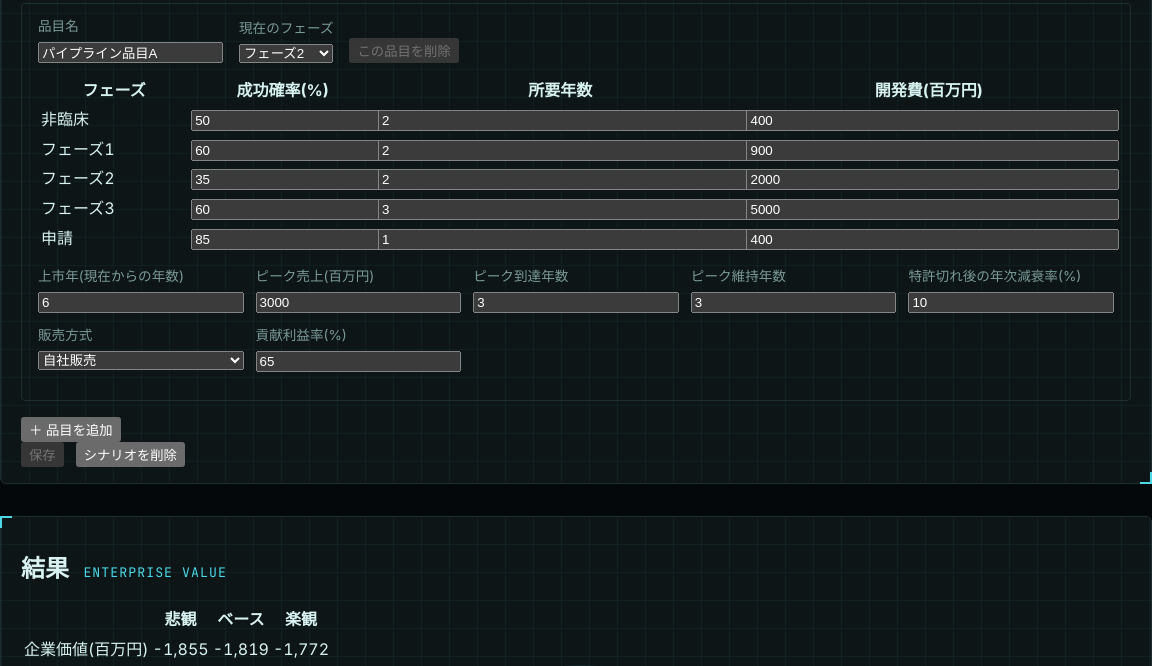
DrugDiscoveryScenarioView › 導出(ライセンス)型に切り替えるとロイヤリティ率とマイルストーンの入力が表示される
The width and height of the screenshot is (1152, 666).
(page scrolled)
Select "導出(ロイヤリティ)" in the dropdown labelled "販売方式" at point(141, 360), box [38,351,244,370]
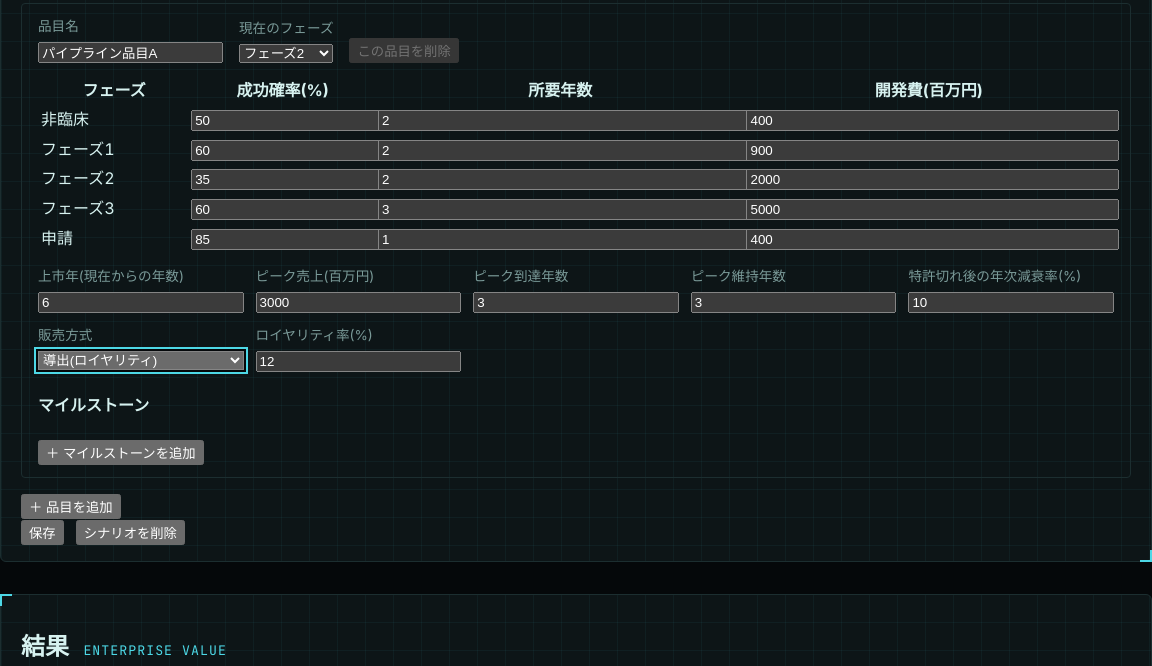
Expected: the number field labelled "ロイヤリティ率(%)" is shown, [256,351,461,372]
Click the button "＋ マイルストーンを追加" at point(121, 452), box [38,440,204,465]
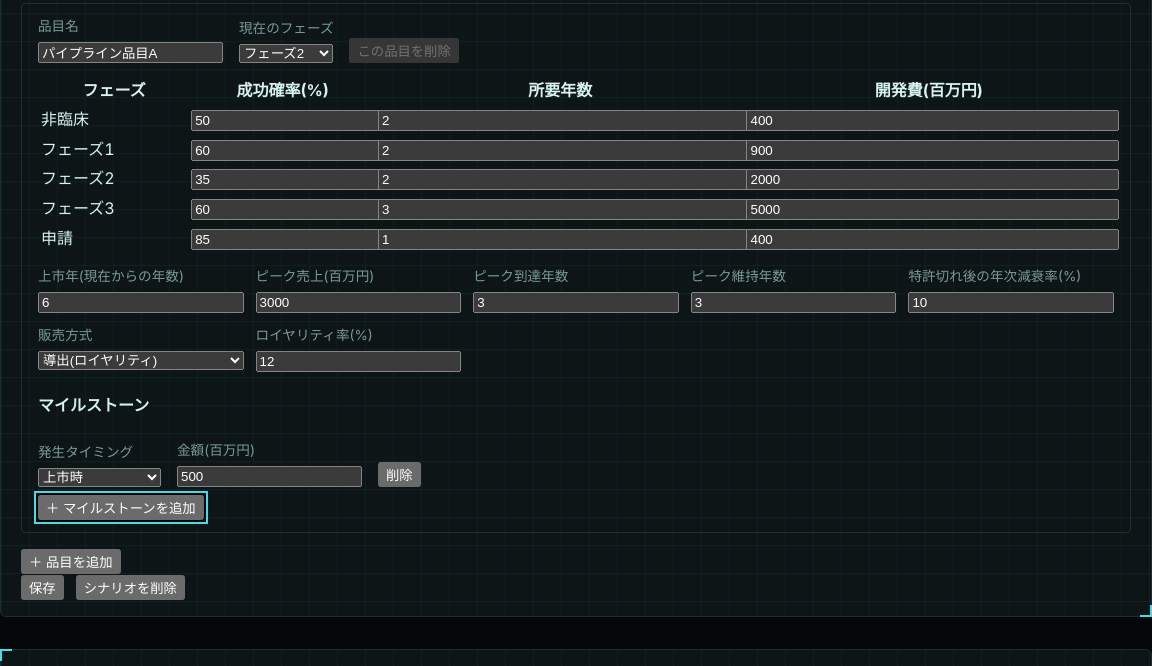
Expected: the number field labelled "金額(百万円)" is shown, [177,466,362,486]
